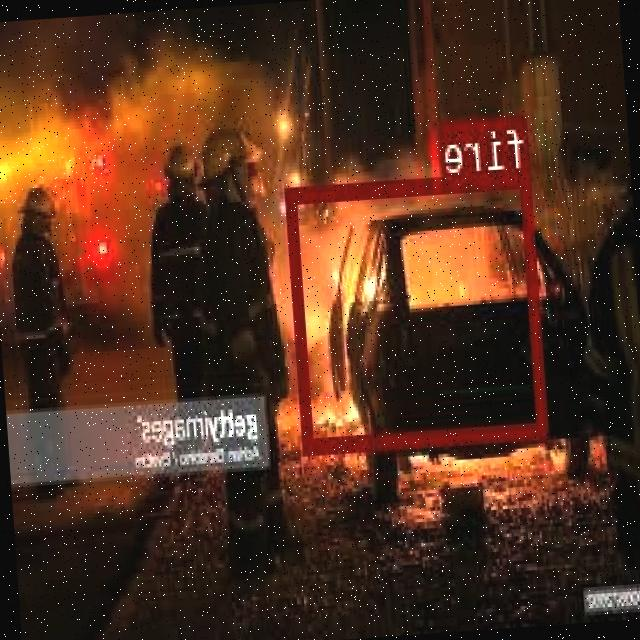fire: (288, 167, 550, 451)
